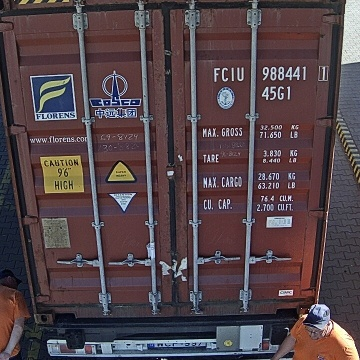serial_id: (214, 65, 328, 81)
